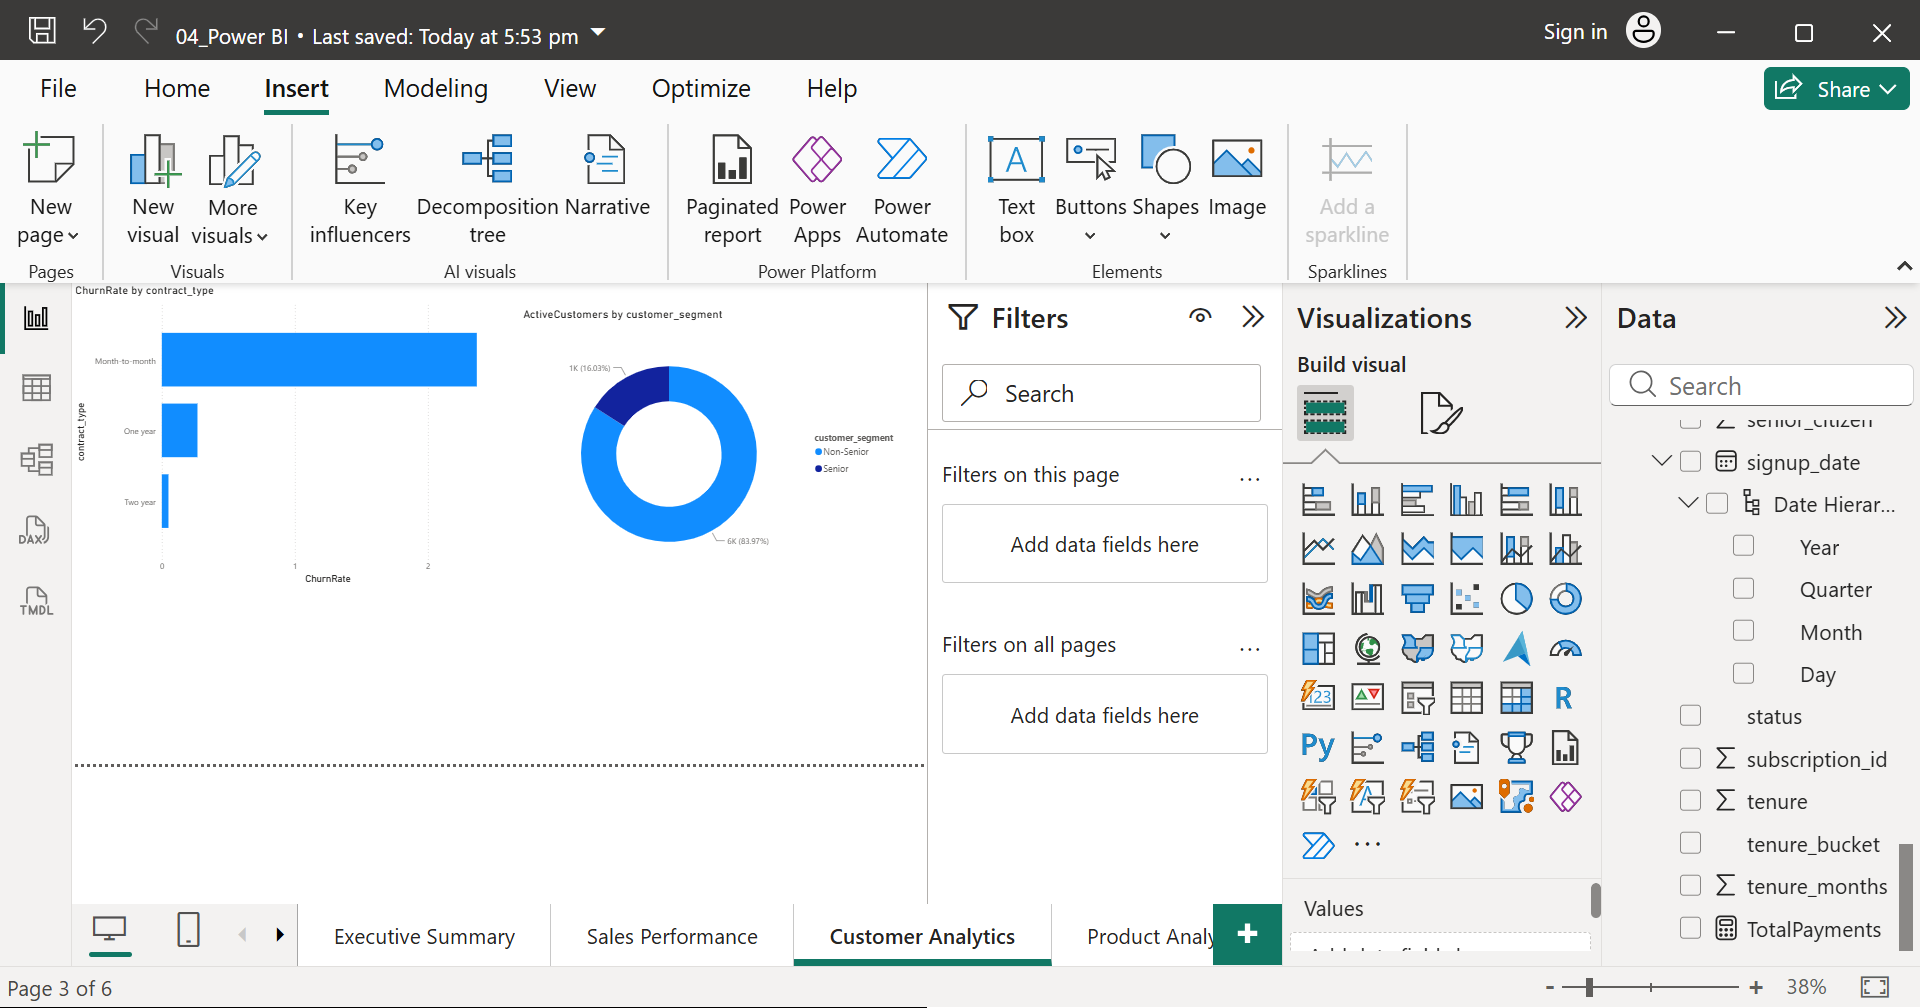

Layout of this report page (visuals, bound fields, positions):
{"tool":"powerbi","page":{"name":"Customer Analytics","canvas":[1280,720],"ordinal":2},"visuals":[{"type":"clusteredBarChart","fields":{"Category":["master_dataset.contract_type"],"Y":["master_dataset. ChurnRate"]},"box":[0,0,641.3,455.8],"z":0},{"type":"donutChart","fields":{"Category":["master_dataset.customer_segment"],"Y":["master_dataset.ActiveCustomers"]},"box":[670.4,37.1,580.3,418.7],"z":1}]}

Visuals, with their boxes on the page's 1280x720 design canvas (x1, y1, x2, y2). These are canvas units, not pixel positions in the 1920x1008 screenshot, which may show the page scaled, cropped or inside an application window:
clusteredBarChart - master_dataset.contract_type x master_dataset. ChurnRate: (0,0,641,456)
donutChart - master_dataset.customer_segment x master_dataset.ActiveCustomers: (670,37,1251,456)
